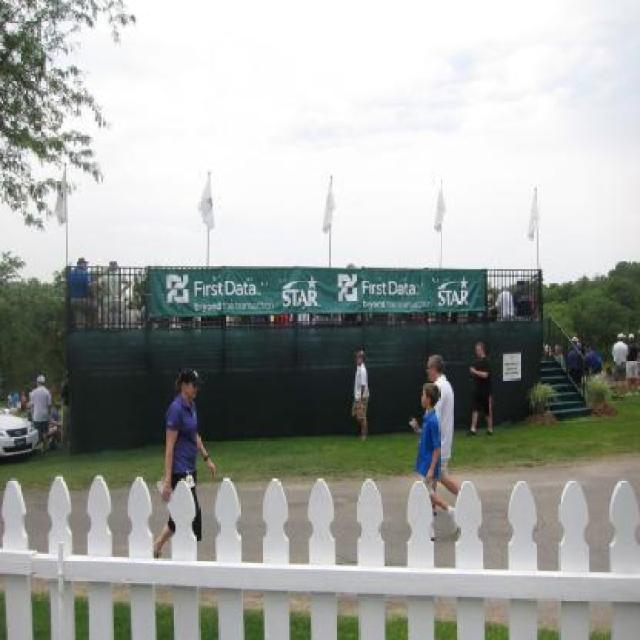Person: (137, 273, 531, 333), (153, 370, 216, 559), (411, 354, 466, 514), (545, 333, 606, 392), (466, 343, 494, 434), (68, 256, 99, 329), (98, 258, 128, 327), (28, 373, 50, 450), (352, 352, 370, 437), (608, 332, 624, 398), (624, 333, 638, 395), (61, 370, 70, 444), (126, 302, 140, 322), (51, 402, 60, 426), (13, 392, 21, 412), (6, 396, 14, 410), (21, 388, 25, 412)
